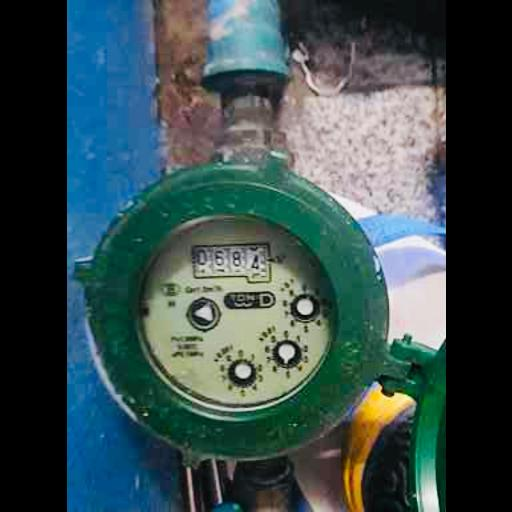0: (193, 247, 211, 278)
4: (245, 245, 268, 284)
6: (210, 246, 229, 277)
8: (226, 245, 246, 277)
border_water_meter_number: (190, 242, 270, 286)
